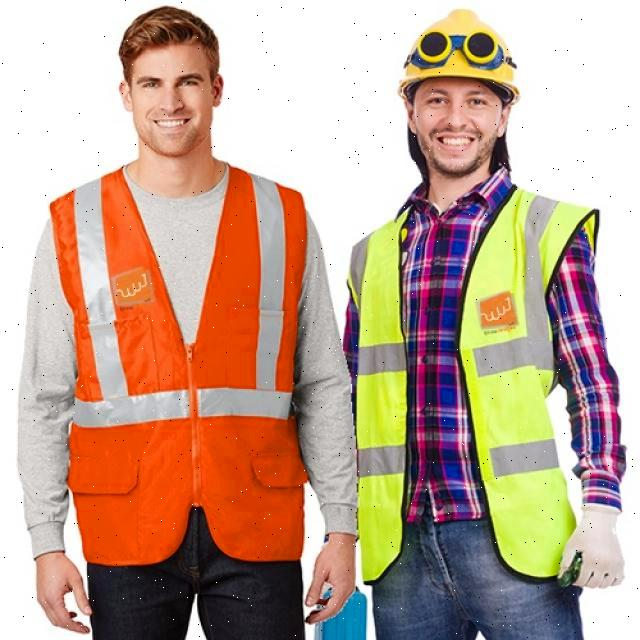Hard_hat: (399, 12, 517, 101)
Person: (11, 9, 348, 640), (345, 10, 631, 640)
Vest: (59, 160, 307, 560), (347, 196, 580, 569)
